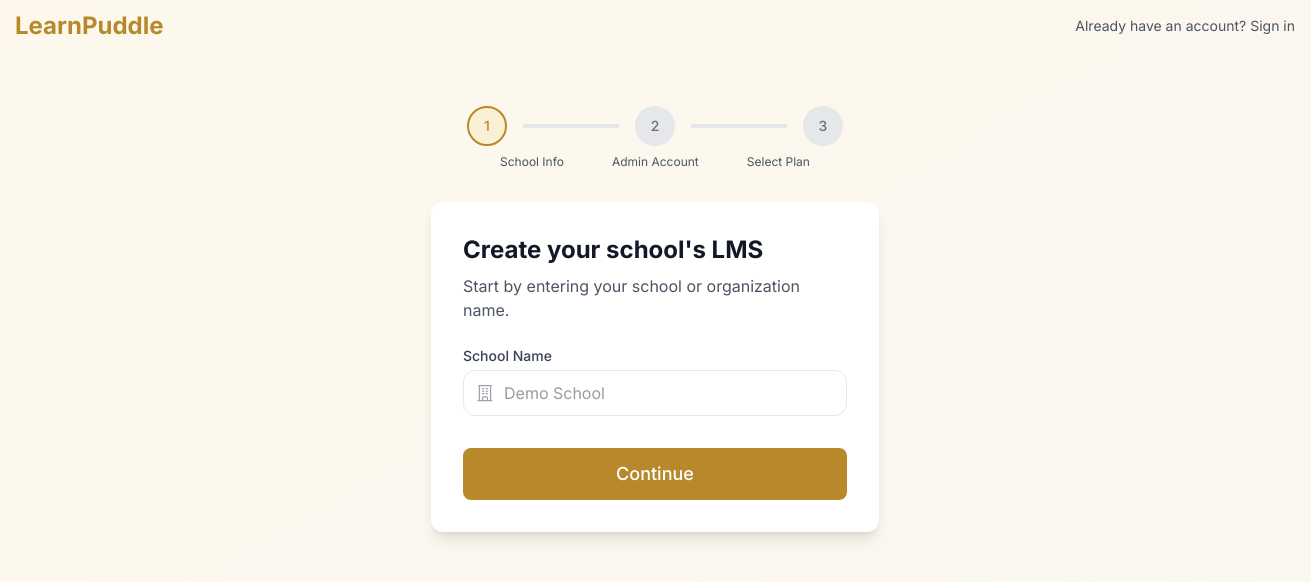
Test: SignupPage › step 1 validation › shows "School name must be at least 3 characters" when Next is clicked with empty name
Click the button "Continue": (655,474) [463,448,847,500]
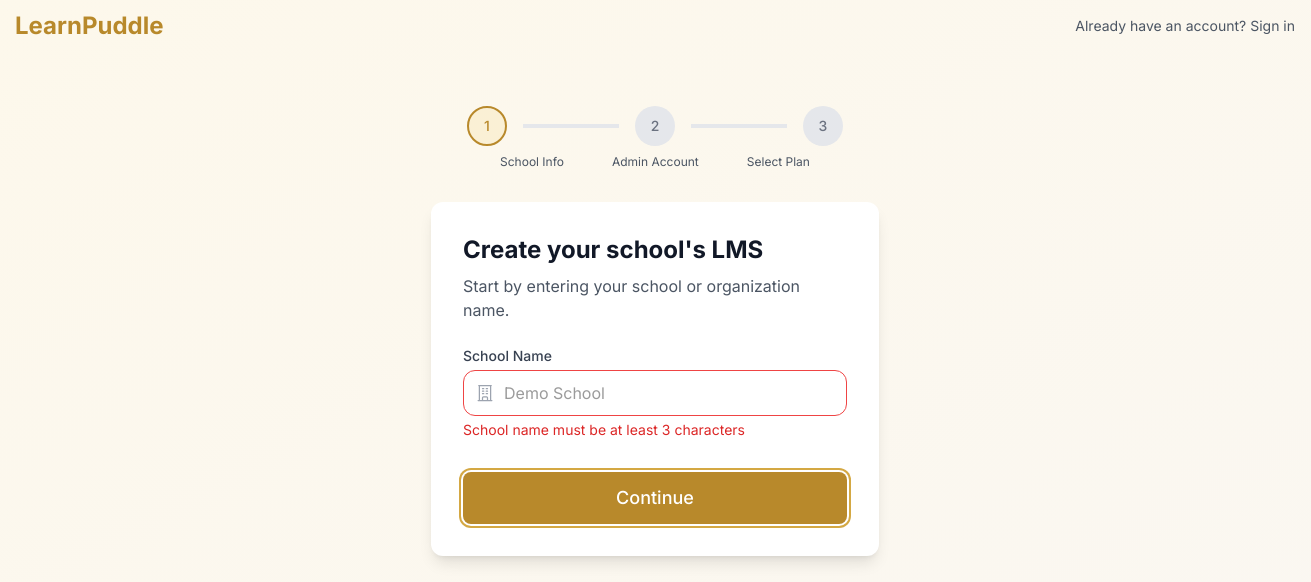
Check: the text "School name must be at least 3 characters" is shown, box [463,421,745,438]
